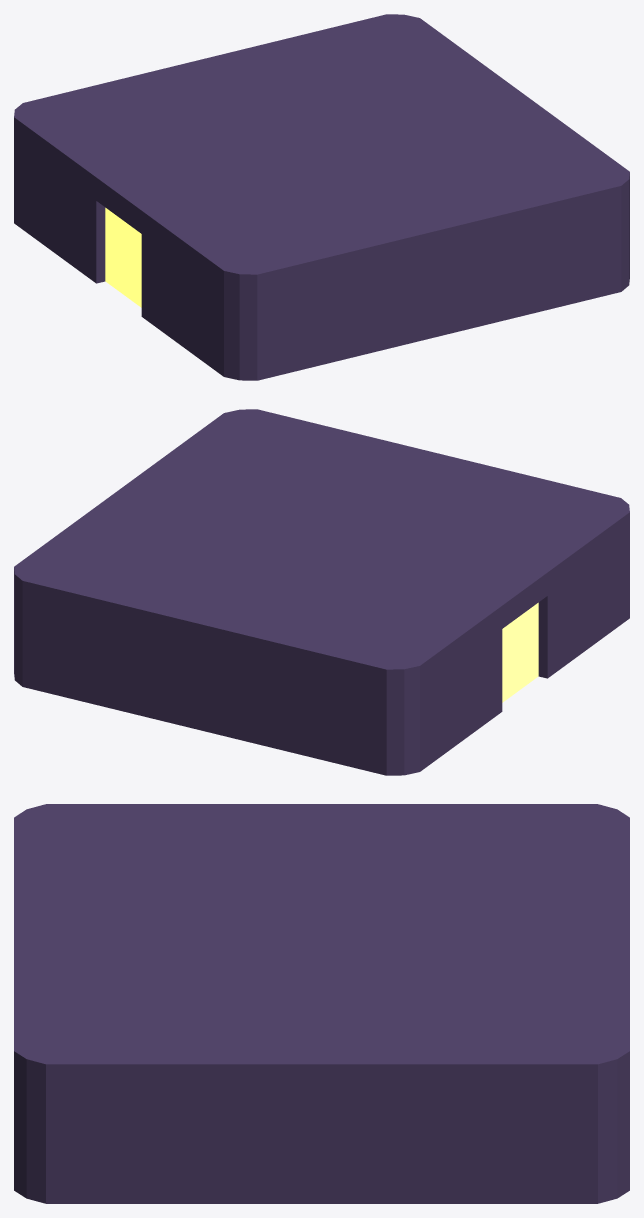
Rendered from RDC.fbx.
3 views of the same model, one above another, from view 1: azimuth 30°, elevation 25°; view 2: azimuth 150°, elevation 25°; view 3: azimuth 270°, elevation 25° (orthographic). The views are drawn at different scales.
Visible parts, largest first — view 1: Cube; view 2: Cube; view 3: Cube.
Part boxes in pixels (x1,y1,x2,y2): Cube: (14, 14, 629, 380); Cube: (14, 409, 629, 775); Cube: (14, 804, 629, 1203).
Size of the model in its own units: 423 by 106 by 423.
